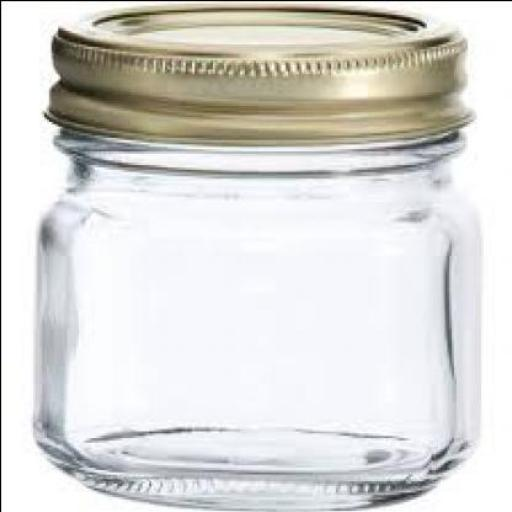glass: (32, 126, 482, 510)
metal: (47, 1, 476, 132)
